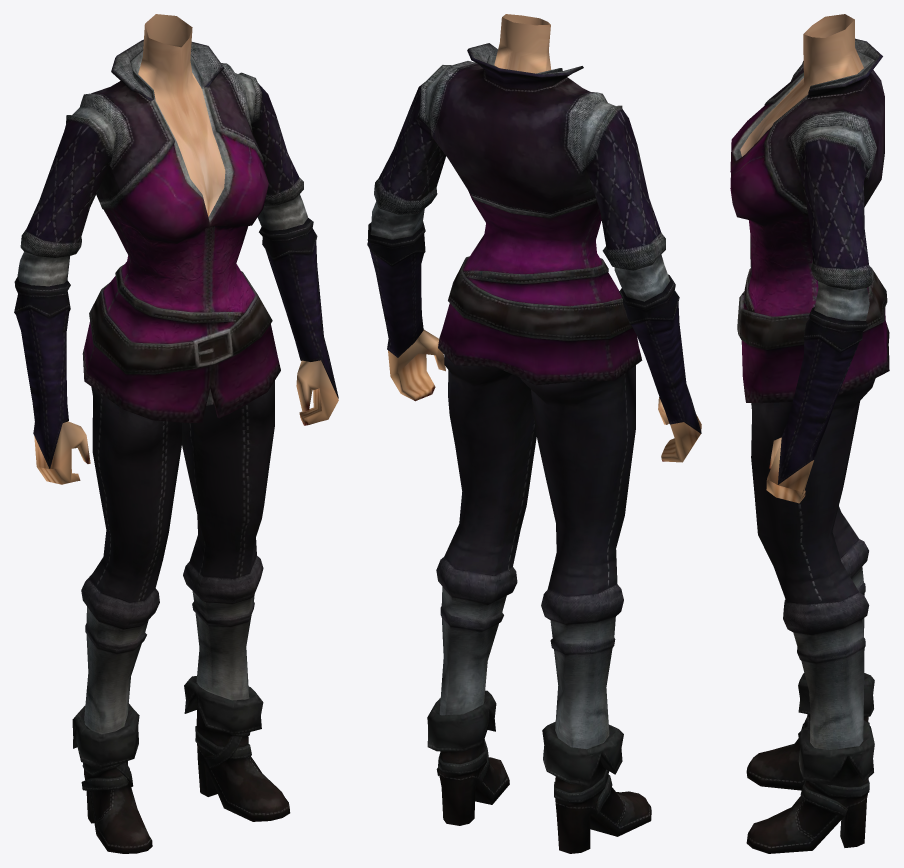
File: KOSA_TRISS_ROSE.glb
3 views of the same model, side by side, from view 1: azimuth 30°, elevation 25°; view 2: azimuth 150°, elevation 25°; view 3: azimuth 270°, elevation 25° (orthographic). The views are drawn at different scales.
Visible parts, largest first — view 1: KOSA_TRISS_ROSE; view 2: KOSA_TRISS_ROSE; view 3: KOSA_TRISS_ROSE.
Part boxes in pixels (x1,y1,x2,y2): KOSA_TRISS_ROSE: (14,14,338,853); KOSA_TRISS_ROSE: (367,14,701,853); KOSA_TRISS_ROSE: (730,14,889,853).
Bounding box in the file's own units: 0.6594 × 1.67 × 0.3029.
Materials: 2 (2 with a texture image).
